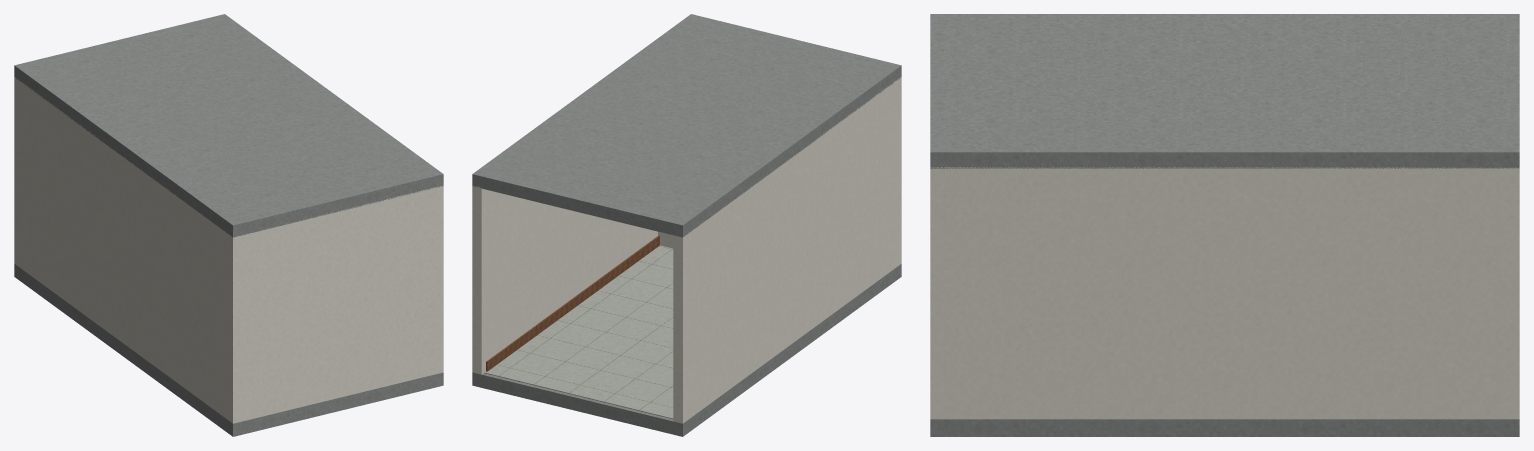
The picture shows the model from 3 angles, left to right: view 1: azimuth 30°, elevation 25°; view 2: azimuth 150°, elevation 25°; view 3: azimuth 270°, elevation 25°; orthographic projection. The views are drawn at different scales.
Visible parts, largest first — view 1: VIS_plaster, VIS_concrete; view 2: VIS_plaster, VIS_concrete, VIS_tile, VIS_timber; view 3: VIS_plaster, VIS_concrete.
Boxes of the visible parts, bbox=[...] form: VIS_plaster: bbox=[14, 77, 443, 423]; VIS_concrete: bbox=[14, 14, 443, 436]; VIS_plaster: bbox=[472, 76, 901, 423]; VIS_concrete: bbox=[472, 14, 901, 436]; VIS_tile: bbox=[484, 245, 673, 419]; VIS_timber: bbox=[486, 235, 659, 371]; VIS_plaster: bbox=[930, 167, 1519, 419]; VIS_concrete: bbox=[930, 14, 1519, 436].
Size of the model in its own units: 4 by 3.84 by 7.2.
Materials: 9 (9 with a texture image).
